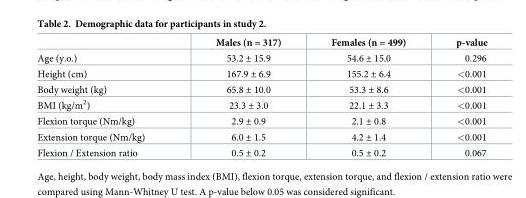table: (36, 37, 486, 158)
table column: (36, 37, 179, 158), (179, 37, 305, 158), (305, 37, 430, 158), (430, 37, 486, 158)
table column header: (36, 37, 486, 49)
table row: (36, 49, 486, 65), (36, 65, 486, 81), (36, 96, 486, 112), (36, 112, 486, 128), (36, 128, 486, 144), (36, 81, 486, 96), (36, 144, 486, 158), (36, 37, 486, 49)
